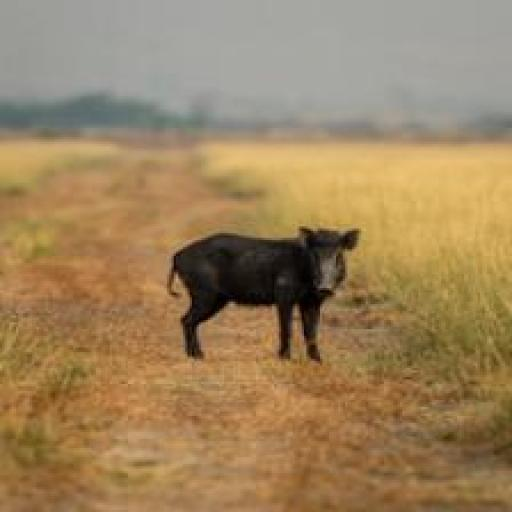Pig: (156, 222, 370, 372)
